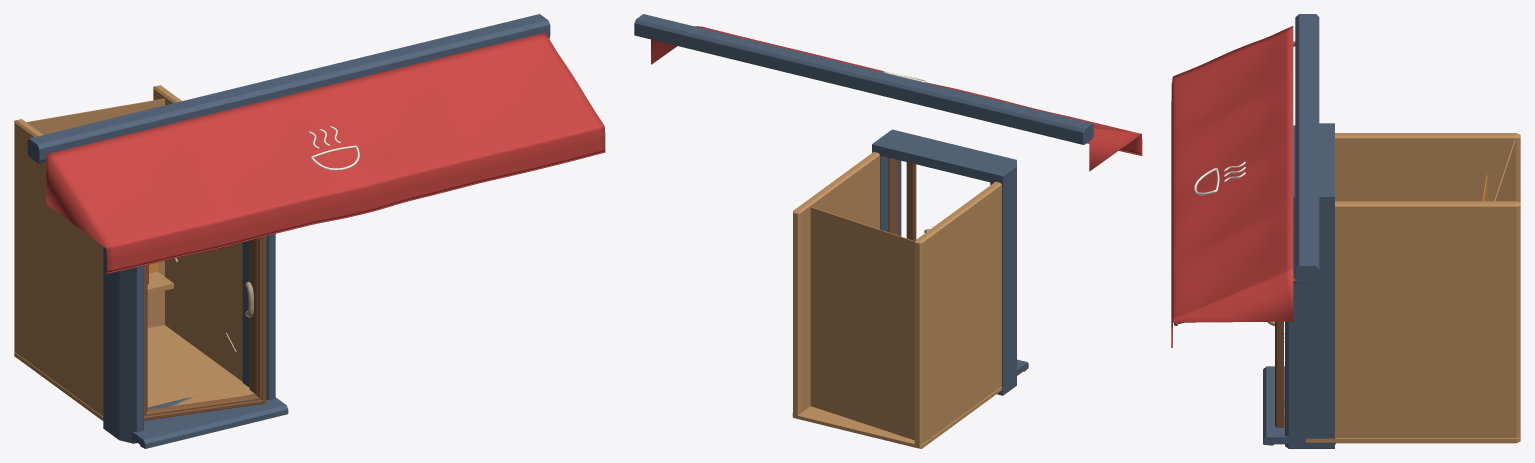
Rendered from entrance_r6.glb.
3 renders of one model, left to right at view 1: azimuth 30°, elevation 25°; view 2: azimuth 150°, elevation 25°; view 3: azimuth 270°, elevation 25°, orthographic. The views are drawn at different scales.
Parts seen in each view (by area): view 1: 09_Cloth_panel_2, interior_shell, 08_Canopy_mounting_cornice, 01_Stone_reveal, 03_Threshold_with_drip_nose, 04_Leaf_mitered_stiles, 06_Glazing_diagnostic_panel, 05_Leaf_inset_bead, 02_Timber_rebate; view 2: interior_shell, 06_Glazing_diagnostic_panel, 08_Canopy_mounting_cornice, 01_Stone_reveal, 09_Cloth_panel_2, 02_Timber_rebate, 04_Leaf_mitered_stiles; view 3: interior_shell, 09_Cloth_panel_2, 01_Stone_reveal, 08_Canopy_mounting_cornice, 03_Threshold_with_drip_nose, 04_Leaf_mitered_stiles, 06_Glazing_diagnostic_panel, Steam_relief_0.12.
Boxes of the visible parts, <box> form: 09_Cloth_panel_2: <box>46,32,605,272</box>; interior_shell: <box>14,85,254,420</box>; 08_Canopy_mounting_cornice: <box>27,14,550,163</box>; 01_Stone_reveal: <box>103,234,275,443</box>; 03_Threshold_with_drip_nose: <box>131,393,288,448</box>; 04_Leaf_mitered_stiles: <box>144,236,266,420</box>; 06_Glazing_diagnostic_panel: <box>26,98,164,327</box>; 05_Leaf_inset_bead: <box>147,238,257,411</box>; 02_Timber_rebate: <box>249,239,255,393</box>; interior_shell: <box>792,152,1002,448</box>; 06_Glazing_diagnostic_panel: <box>810,207,914,440</box>; 08_Canopy_mounting_cornice: <box>634,14,1093,144</box>; 01_Stone_reveal: <box>872,129,1016,395</box>; 09_Cloth_panel_2: <box>651,26,1142,171</box>; 02_Timber_rebate: <box>888,157,898,235</box>; 04_Leaf_mitered_stiles: <box>906,162,992,240</box>; interior_shell: <box>1306,133,1520,443</box>; 09_Cloth_panel_2: <box>1171,26,1293,346</box>; 01_Stone_reveal: <box>1285,123,1334,448</box>; 08_Canopy_mounting_cornice: <box>1295,14,1319,283</box>; 03_Threshold_with_drip_nose: <box>1263,366,1335,445</box>; 04_Leaf_mitered_stiles: <box>1275,321,1284,427</box>; 06_Glazing_diagnostic_panel: <box>1494,140,1515,201</box>; Steam_relief_0.12: <box>1194,161,1245,195</box>.
Size of the model in its own units: 5.71 by 3.39 by 3.35.
